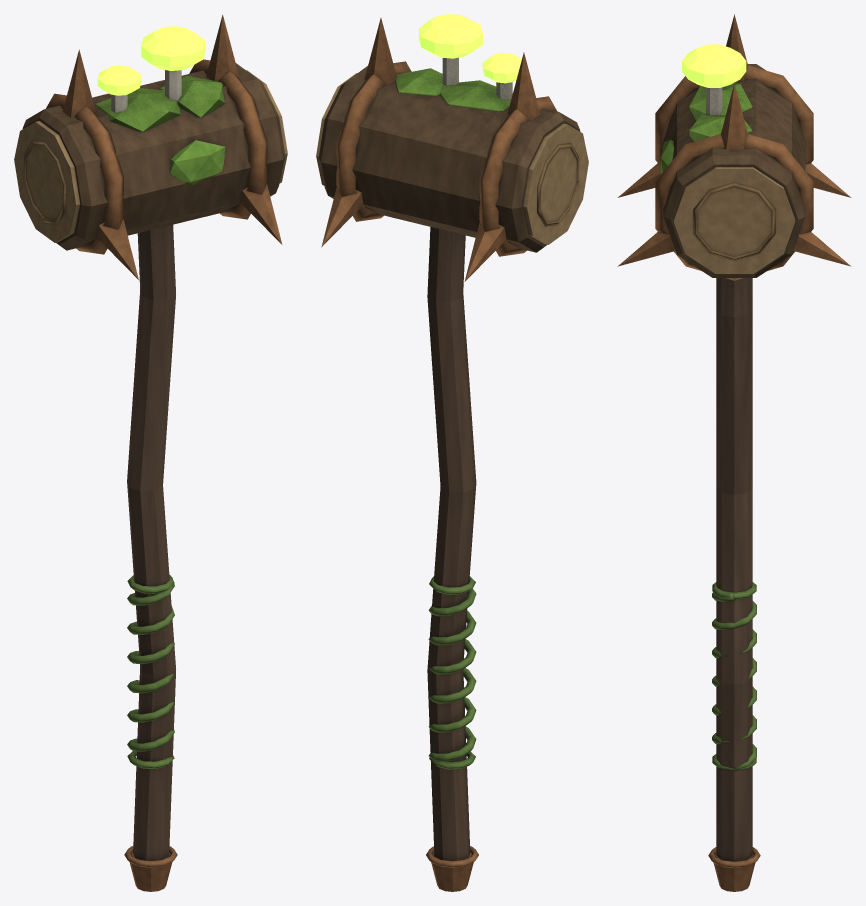
File: 05_swamp_heavy.fbx
The picture shows the model from 3 angles, left to right: view 1: azimuth 30°, elevation 25°; view 2: azimuth 150°, elevation 25°; view 3: azimuth 270°, elevation 25°; orthographic projection.
Parts seen in each view (by area): view 1: Weapon; view 2: Weapon; view 3: Weapon.
Boxes of the visible parts, x1,y1,x2,y2 form: Weapon: [14, 14, 287, 891]; Weapon: [316, 14, 588, 891]; Weapon: [617, 14, 851, 891].
Bounding box in the file's own units: 36.82 × 140 × 35.34.
Materials: 2 (1 with a texture image).
